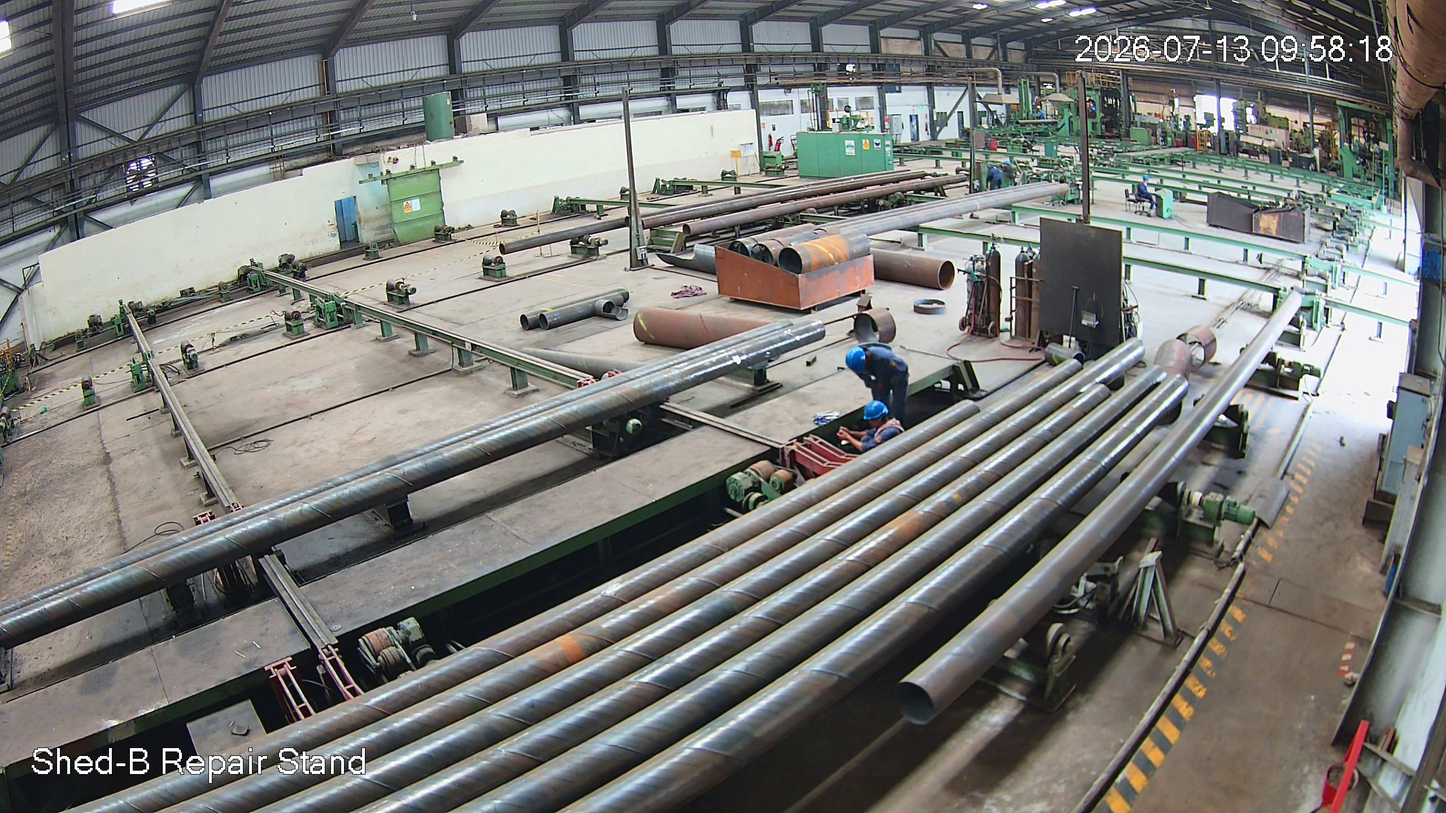Helmet: (860, 398, 912, 434), (843, 342, 874, 377)
Person: (844, 343, 921, 429), (833, 400, 916, 451)
